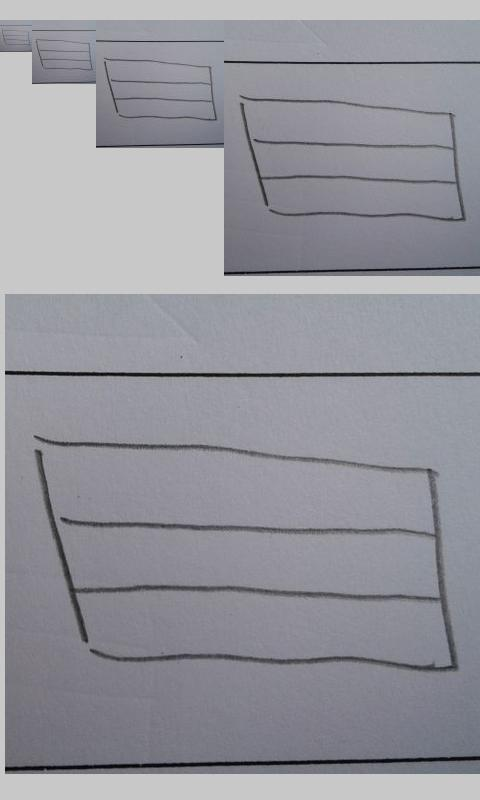list_view: (34, 435, 458, 675), (239, 94, 466, 223), (103, 57, 218, 122), (34, 37, 95, 72), (1, 29, 31, 46)
